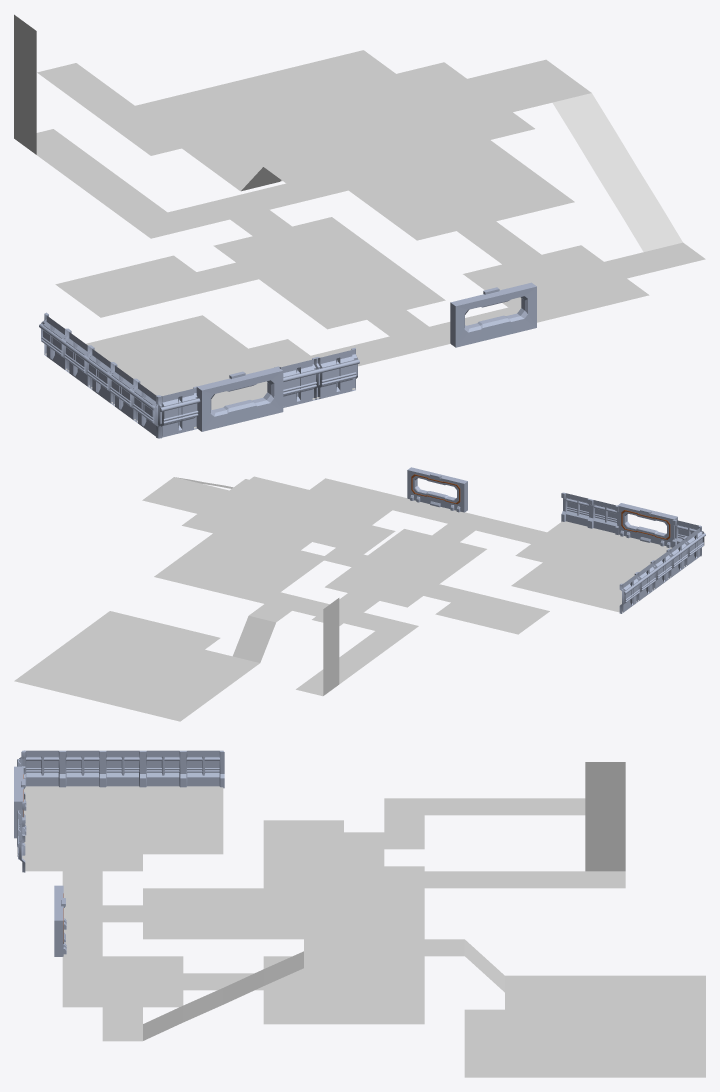
Rendered from interiorSolid.fbx.
The picture shows the model from 3 angles, top to bottom: view 1: azimuth 30°, elevation 25°; view 2: azimuth 150°, elevation 25°; view 3: azimuth 270°, elevation 25°; orthographic projection. The views are drawn at different scales.
Parts seen in each view (by area): view 1: Shape, Cube.008, Cube.009, Cube.007, Cube.005, Cube.006, Cube.004, Cube, Cube.003, Cube.001, Cube.002; view 2: Shape, Cube.009, Cube.008, Cube.007, Cube.006, Cube.004, Cube, Cube.001, Cube.002, Cube.003, Cube.005; view 3: Shape, Cube.001, Cube.003, Cube.004, Cube.002, Cube, Cube.009, Cube.008.
Boxes of the visible parts, box(x1,y1,x2,y2) form: Shape: box(14, 14, 705, 428); Cube.008: box(196, 367, 283, 431); Cube.009: box(450, 282, 536, 347); Cube.007: box(314, 347, 359, 399); Cube.005: box(156, 386, 200, 438); Cube.006: box(274, 357, 320, 407); Cube.004: box(39, 312, 69, 371); Cube: box(130, 380, 161, 438); Cube.003: box(61, 329, 92, 388); Cube.001: box(107, 363, 138, 421); Cube.002: box(84, 346, 114, 404); Shape: box(14, 476, 686, 721); Cube.009: box(407, 467, 467, 512); Cube.008: box(617, 503, 677, 547); Cube.007: box(561, 492, 591, 528); Cube.006: box(589, 499, 618, 534); Cube.004: box(619, 572, 641, 613); Cube: box(684, 525, 705, 566); Cube.001: box(668, 537, 689, 578); Cube.002: box(652, 549, 673, 590); Cube.003: box(636, 561, 657, 601); Cube.005: box(672, 520, 703, 556); Shape: box(22, 762, 705, 1077); Cube.001: box(61, 750, 103, 787); Cube.003: box(142, 750, 184, 787); Cube.004: box(182, 750, 224, 788); Cube.002: box(101, 750, 143, 787); Cube: box(21, 750, 63, 787); Cube.009: box(54, 885, 66, 956); Cube.008: box(14, 766, 26, 838).
Size of the model in its own units: 1514 by 1721 by 400.
